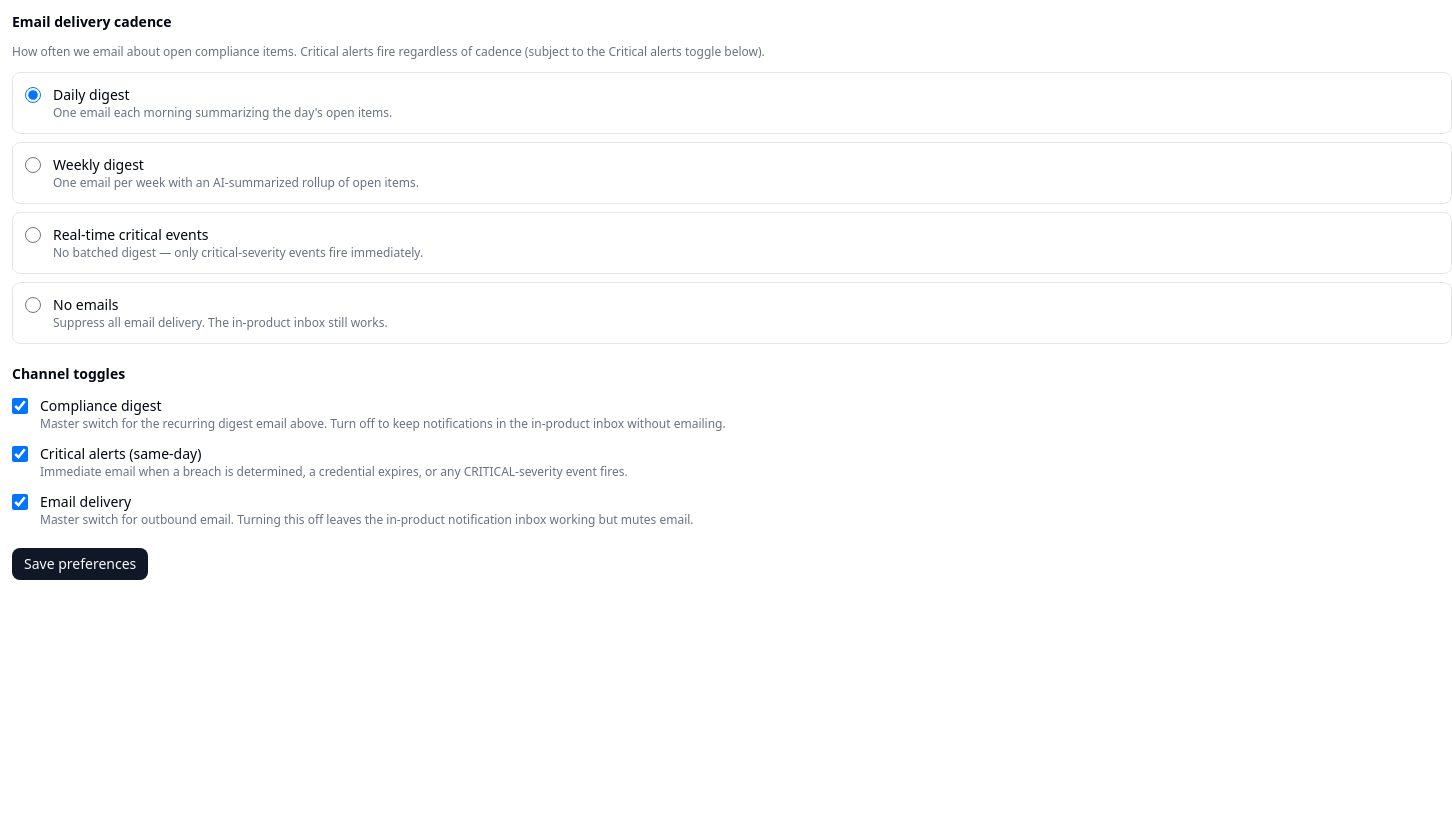
Test: <NotificationPreferencesForm> › reveals the weekly digestDay + digestTime fields when WEEKLY is selected
This screenshot has width=1452, height=822.
Expected: the field labelled "day of week" is not shown
Click the radio button labelled "Weekly digest" at (33, 165), box x1=25 y1=157 x2=41 y2=173
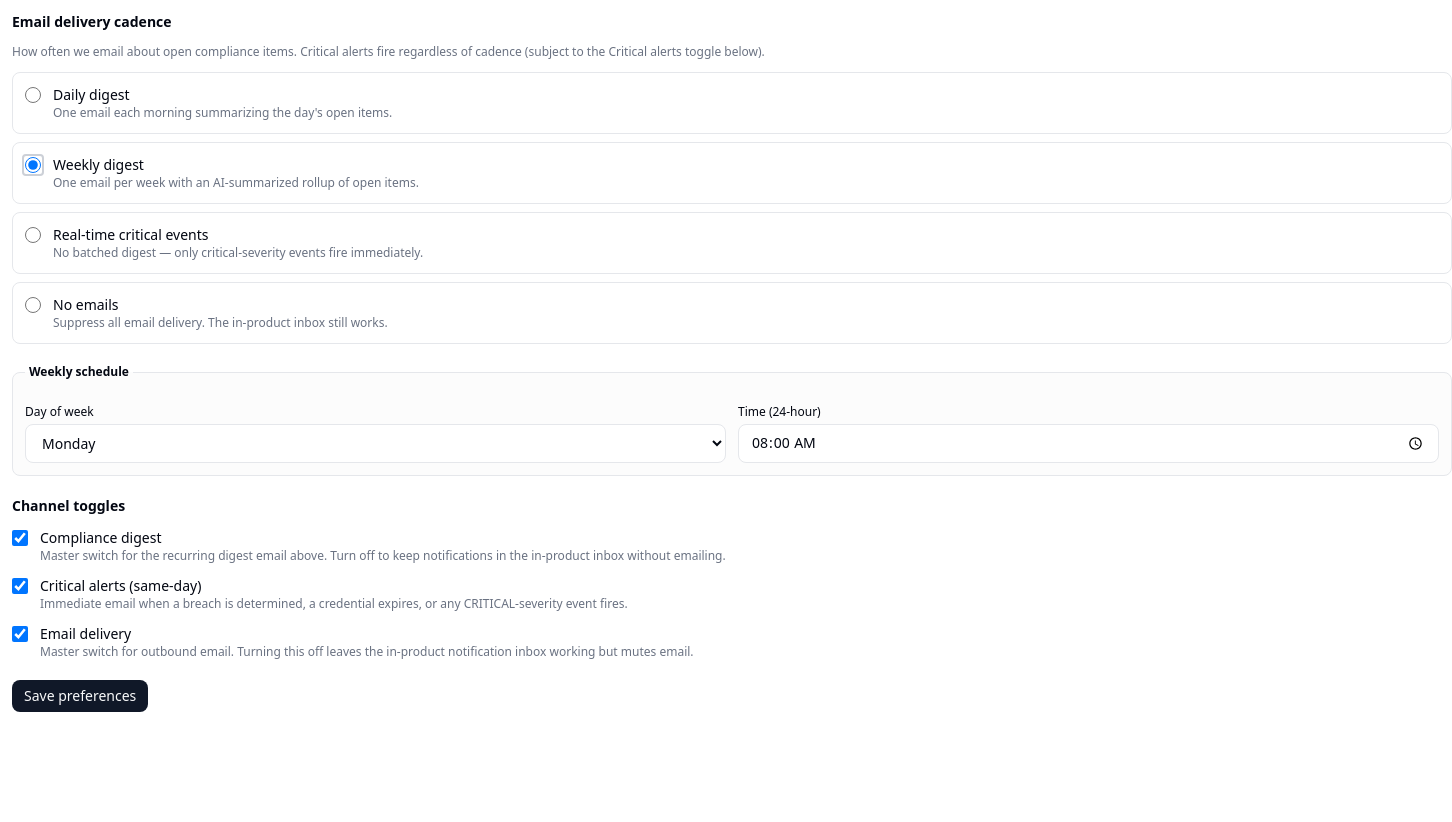
Now the dropdown labelled "Day of week" shows "Monday", box x1=25 y1=424 x2=726 y2=463
Now the time field labelled "Time (24-hour)" holds "08:00", box x1=738 y1=424 x2=1439 y2=463
